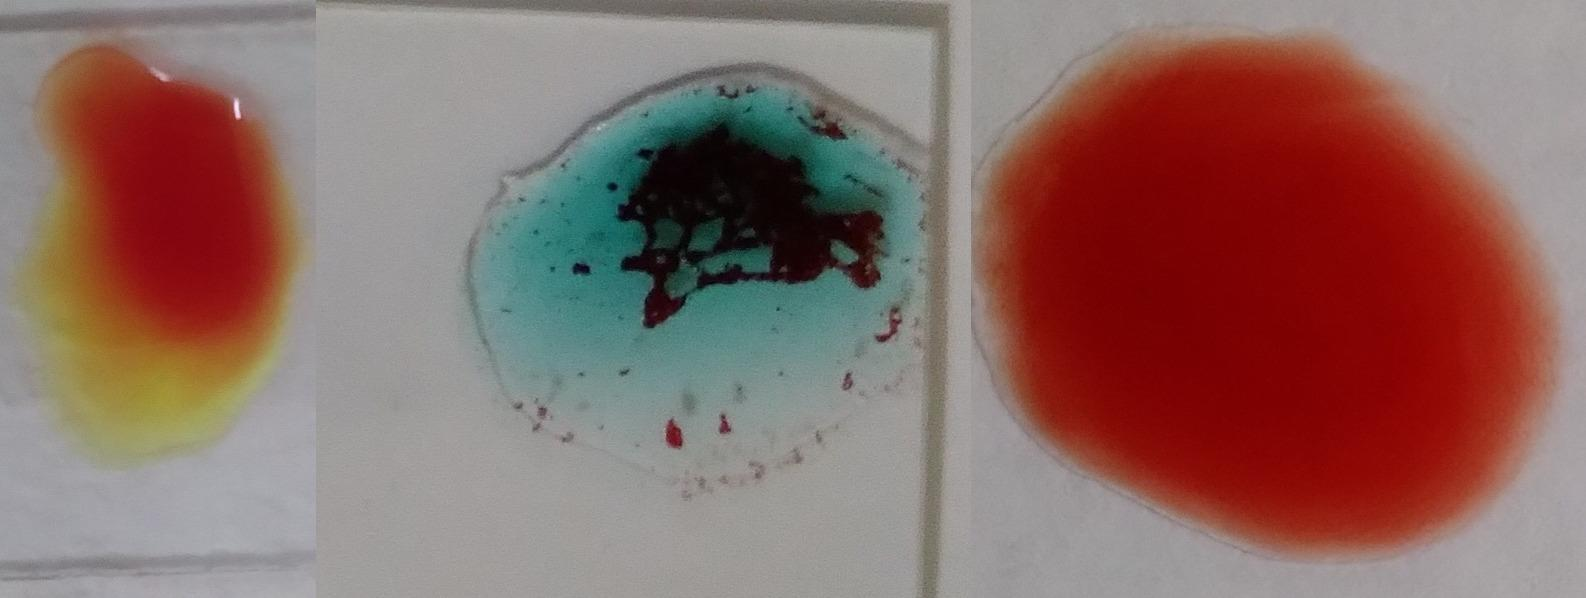A: (482, 59, 915, 497)
